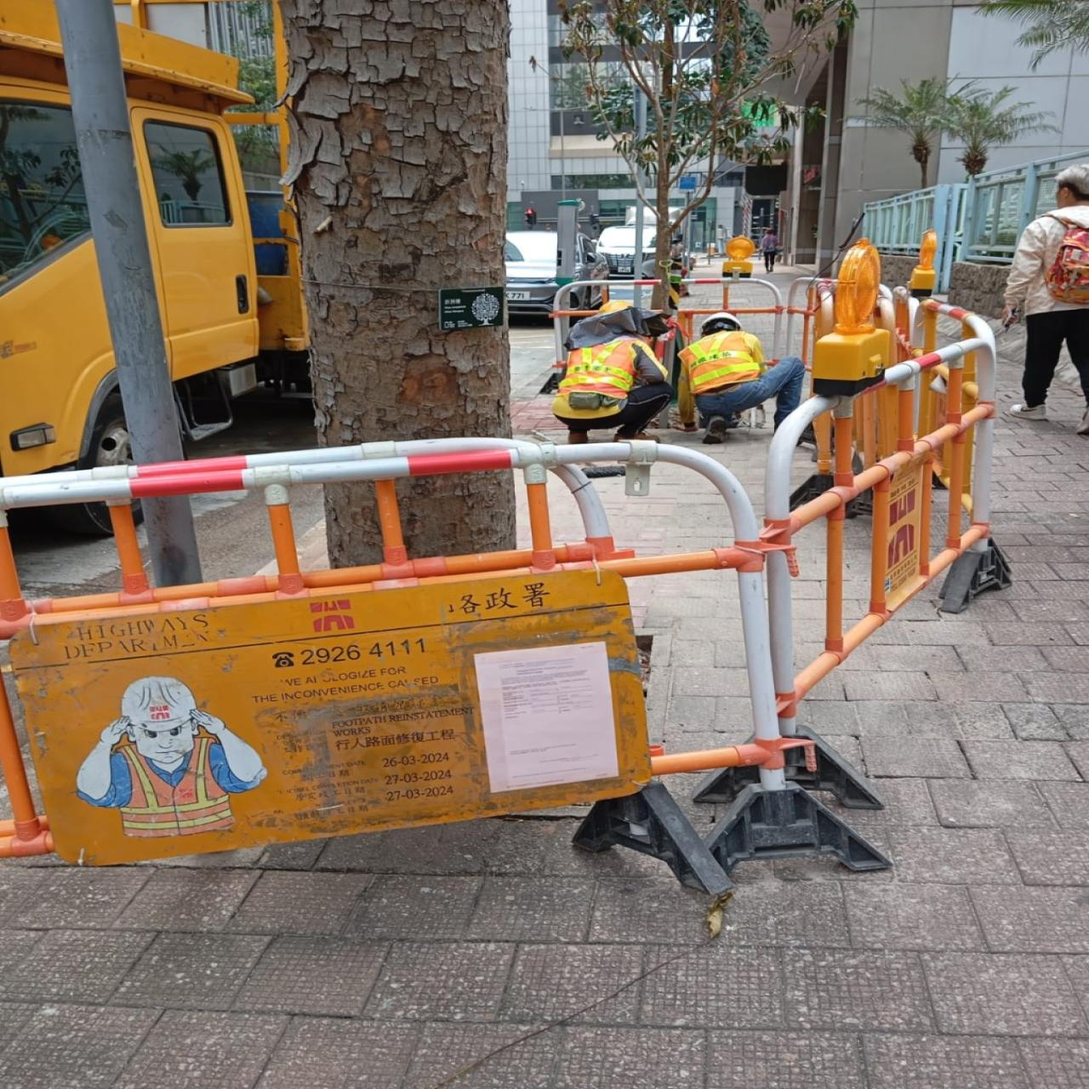NO_Safety_Vest: (1024, 208, 1089, 317)
Person: (1001, 164, 1089, 420), (553, 292, 666, 441), (674, 310, 791, 444)
Safety_Vest: (552, 330, 640, 403), (682, 332, 759, 388)
